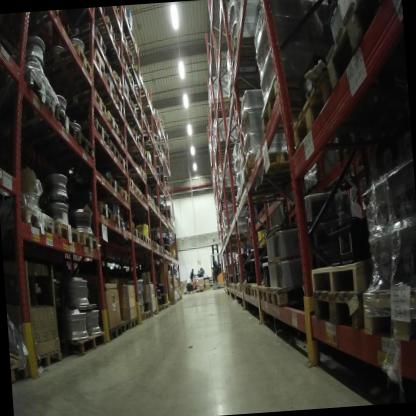forklift: (206, 238, 227, 290)
pallet: (322, 0, 403, 97), (293, 69, 345, 154), (257, 70, 315, 135), (358, 285, 416, 346), (237, 141, 306, 192), (0, 63, 56, 125), (308, 284, 368, 336), (4, 193, 59, 245), (42, 44, 97, 89), (311, 258, 373, 297), (228, 33, 276, 82), (61, 327, 111, 367), (65, 14, 116, 47), (59, 88, 108, 120), (266, 279, 312, 311), (70, 117, 111, 151), (225, 75, 267, 107), (51, 102, 78, 147), (30, 343, 63, 379), (85, 173, 122, 201), (89, 37, 126, 65), (80, 201, 113, 230), (55, 213, 83, 247), (10, 346, 31, 385), (89, 74, 117, 102), (100, 55, 133, 78), (99, 92, 126, 119), (76, 127, 97, 160), (85, 48, 107, 79), (79, 228, 102, 257), (108, 17, 136, 39), (110, 71, 140, 90), (209, 92, 238, 111), (101, 324, 124, 345), (223, 228, 253, 244), (211, 137, 239, 154), (106, 70, 125, 95), (106, 134, 121, 165), (119, 123, 140, 145), (119, 98, 139, 121), (218, 181, 241, 201), (103, 7, 124, 28), (106, 104, 120, 135), (117, 174, 137, 194), (126, 34, 142, 59), (126, 164, 148, 182), (125, 86, 142, 109), (260, 202, 286, 217), (138, 136, 159, 153), (124, 49, 139, 72), (233, 192, 250, 212), (257, 282, 271, 306), (124, 142, 146, 157), (119, 81, 133, 104), (133, 93, 153, 109), (111, 208, 126, 229), (117, 152, 130, 175), (135, 116, 151, 134), (250, 278, 261, 302), (120, 185, 132, 207), (118, 126, 129, 149), (121, 30, 131, 55), (118, 317, 132, 334), (137, 158, 154, 171), (141, 167, 158, 179), (130, 83, 148, 94), (245, 280, 254, 301), (130, 225, 142, 240), (143, 309, 154, 324), (145, 200, 157, 213), (138, 65, 146, 84), (138, 108, 148, 123), (136, 185, 144, 202), (129, 315, 141, 326), (142, 195, 150, 209), (146, 234, 153, 249), (140, 231, 147, 245), (151, 237, 159, 249), (146, 192, 153, 205), (169, 297, 179, 306), (138, 312, 145, 324), (242, 283, 247, 298), (156, 241, 162, 253), (155, 205, 161, 216), (163, 247, 169, 257), (167, 249, 173, 259), (195, 287, 205, 293), (153, 307, 158, 318), (160, 244, 165, 255), (186, 290, 197, 295), (235, 284, 241, 293), (162, 303, 169, 310), (256, 212, 261, 221), (158, 305, 163, 313), (240, 284, 243, 294), (234, 283, 237, 292), (232, 284, 235, 290)
